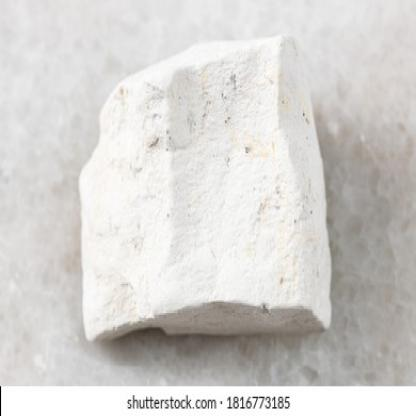Sedimentary_Chalk: (72, 37, 342, 354)
